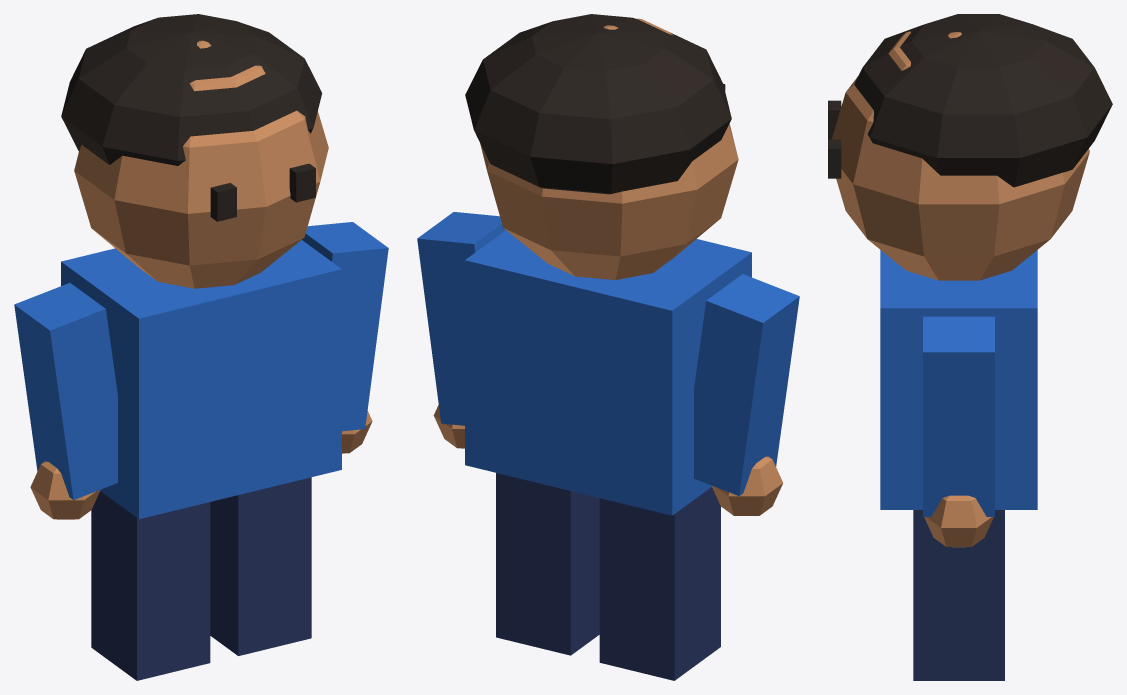
File: customer_a.glb
3 renders of one model, left to right at view 1: azimuth 30°, elevation 25°; view 2: azimuth 150°, elevation 25°; view 3: azimuth 270°, elevation 25°, orthographic. The views are drawn at different scales.
Parts seen in each view (by area): view 1: customer_a; view 2: customer_a; view 3: customer_a.
Part boxes in pixels (box(x1,y1,x2,y2)): customer_a: box(14, 14, 388, 680); customer_a: box(417, 14, 799, 680); customer_a: box(828, 14, 1112, 680).
Bounding box in the file's own units: 0.6008 × 1.02 × 0.435.
1 material, 1 textured.
